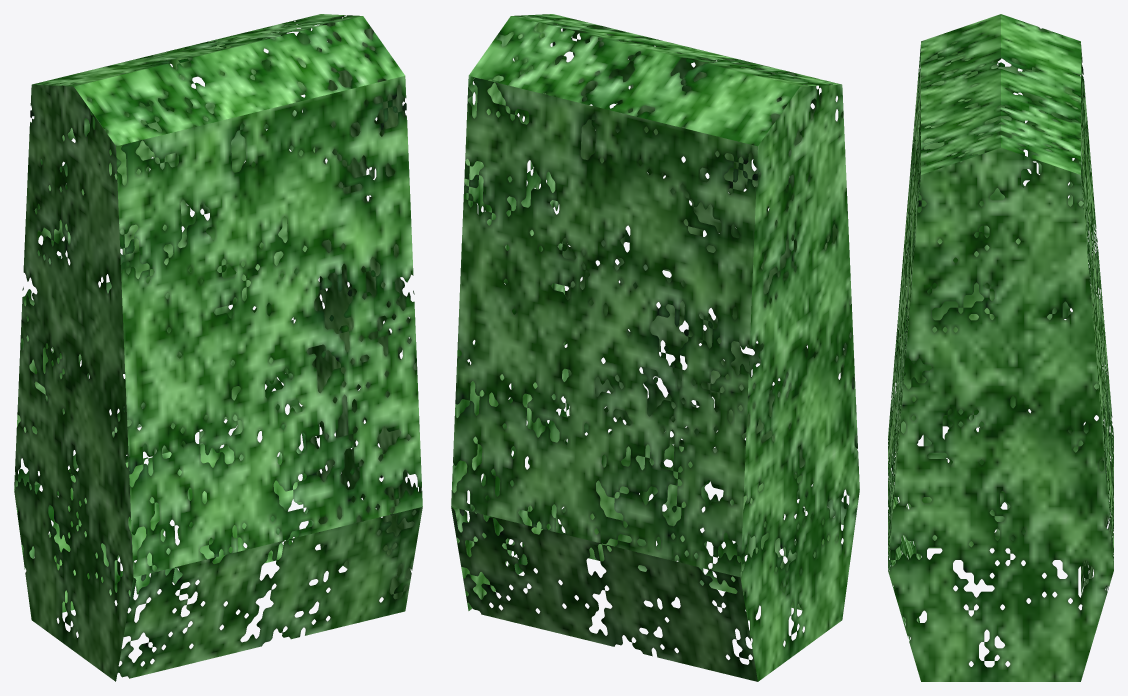
File: bush_tall_half_spring.fbx
3 renders of one model, left to right at view 1: azimuth 30°, elevation 25°; view 2: azimuth 150°, elevation 25°; view 3: azimuth 270°, elevation 25°, orthographic. The views are drawn at different scales.
Visible parts, largest first — view 1: bush_tall_half_spring; view 2: bush_tall_half_spring; view 3: bush_tall_half_spring.
Boxes of the visible parts, bbox=[...] form: bush_tall_half_spring: bbox=[14, 14, 422, 681]; bush_tall_half_spring: bbox=[451, 14, 859, 681]; bush_tall_half_spring: bbox=[888, 14, 1113, 681].
Bounding box in the file's own units: 101 × 188 × 71.91.
1 material, 1 textured.
